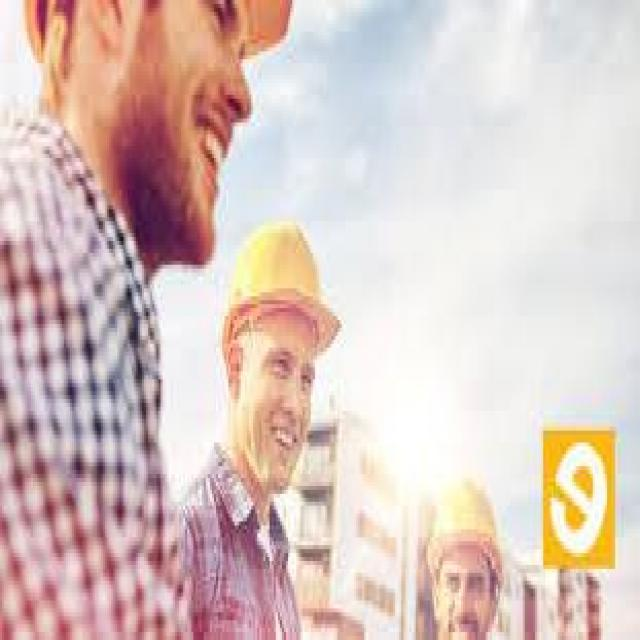safety_helmet: (214, 201, 341, 363), (409, 446, 522, 592)
